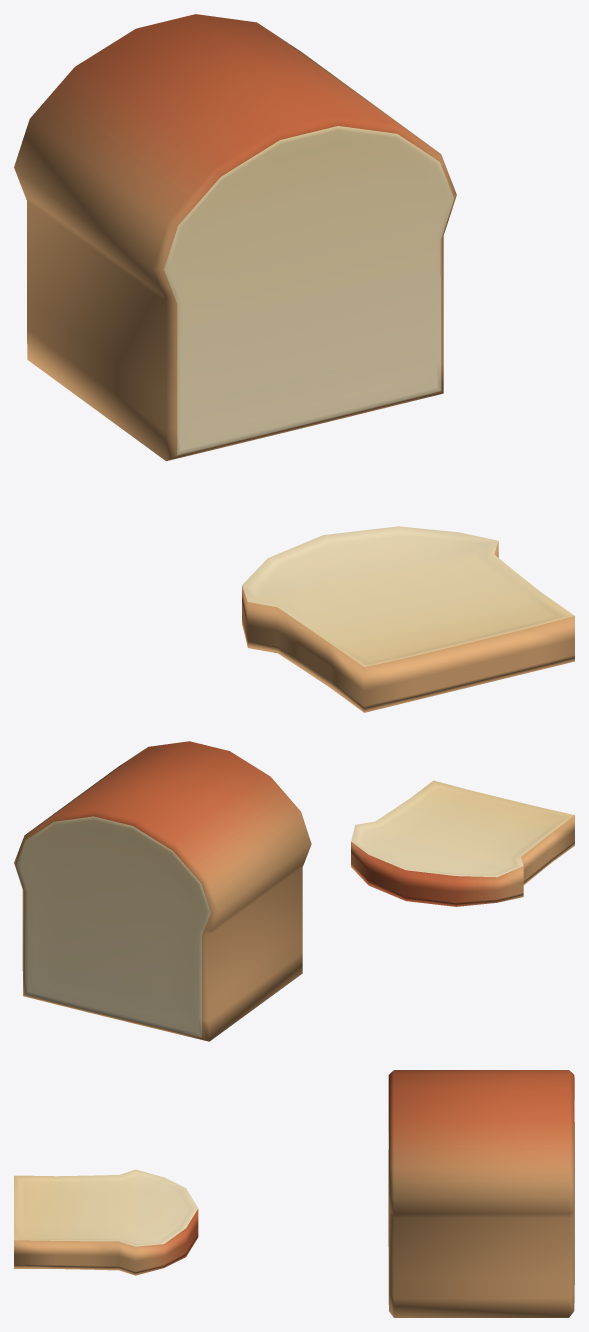
File: Bread.fbx
The picture shows the model from 3 angles, top to bottom: view 1: azimuth 30°, elevation 25°; view 2: azimuth 150°, elevation 25°; view 3: azimuth 270°, elevation 25°; orthographic projection. The views are drawn at different scales.
Visible parts, largest first — view 1: TOAST1, TOAST SLICE1; view 2: TOAST1, TOAST SLICE1; view 3: TOAST1, TOAST SLICE1.
Boxes of the visible parts, box(x1,y1,x2,y2) form: TOAST1: box(14, 14, 456, 461); TOAST SLICE1: box(242, 526, 574, 712); TOAST1: box(14, 741, 311, 1041); TOAST SLICE1: box(351, 780, 574, 906); TOAST1: box(388, 1070, 574, 1317); TOAST SLICE1: box(14, 1169, 198, 1275).
Size of the model in its own units: 101 by 72.42 by 188.
Materials: 1 (1 with a texture image).
